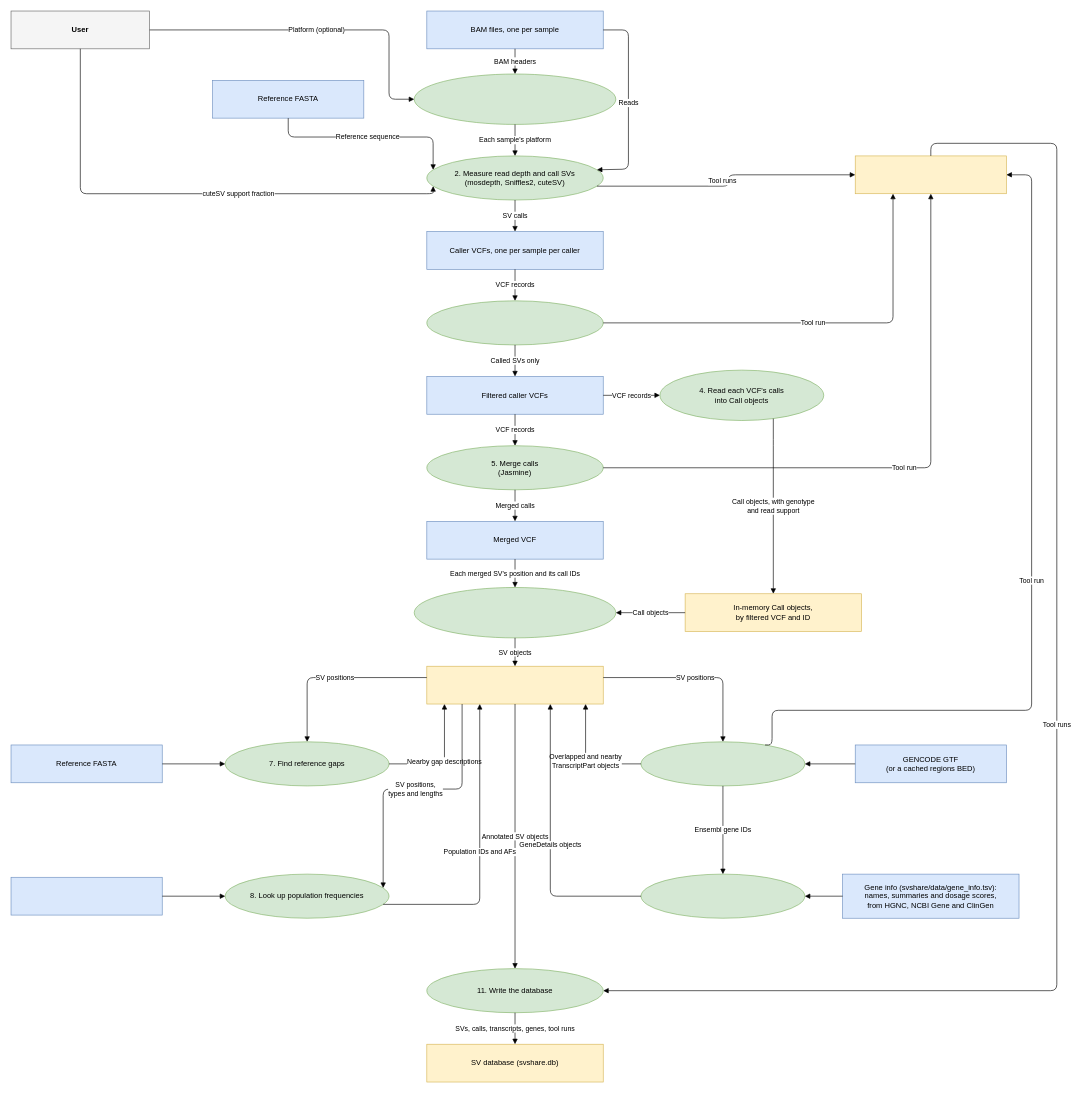
Image size: 1082x1093. Some labels were removed from this diagram. The shapes that lost their labels are listed below. From the top down, each one's box as (x1, y1, x2, y2) in pixels, then its label:
(414, 73, 616, 124): 1. Find each sample's platform
(855, 155, 1006, 194): In-memory list of tool runs
(426, 300, 603, 345): 3. Drop 0/0 calls (bcftools)
(414, 587, 616, 638): 6. Make an SV object for each Jasmine record, holding the Call objects it merged
(426, 666, 603, 704): In-memory list of SV objects
(640, 741, 805, 786): 9. Find the transcript parts each SV overlaps or is near (bedtools)
(10, 877, 162, 915): Population SV datasets (gnomAD, CoLoRSdb VCFs)
(640, 873, 805, 918): 10. Add gene details
